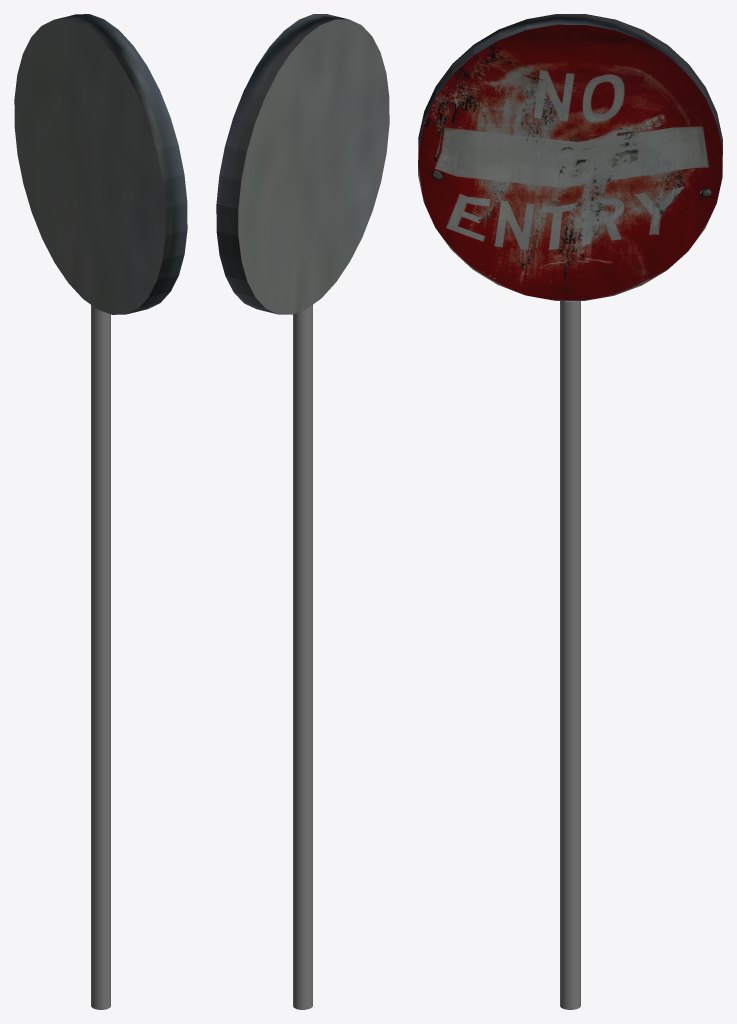
Rendered from no_entry.glb.
The picture shows the model from 3 angles, left to right: view 1: azimuth 30°, elevation 25°; view 2: azimuth 150°, elevation 25°; view 3: azimuth 270°, elevation 25°; orthographic projection.
Visible parts, largest first — view 1: Cylinder, Cylinder.001; view 2: Cylinder, Cylinder.001; view 3: Cylinder, Cylinder.001.
Boxes of the visible parts, x1,y1,x2,y2 form: Cylinder: (14,14,187,314); Cylinder.001: (91,305,110,1009); Cylinder: (216,14,389,314); Cylinder.001: (293,305,312,1009); Cylinder: (418,14,722,300); Cylinder.001: (560,301,580,1009).
Size of the model in its own units: 0.1289 by 5.49 by 1.54.
2 materials, 1 textured.
